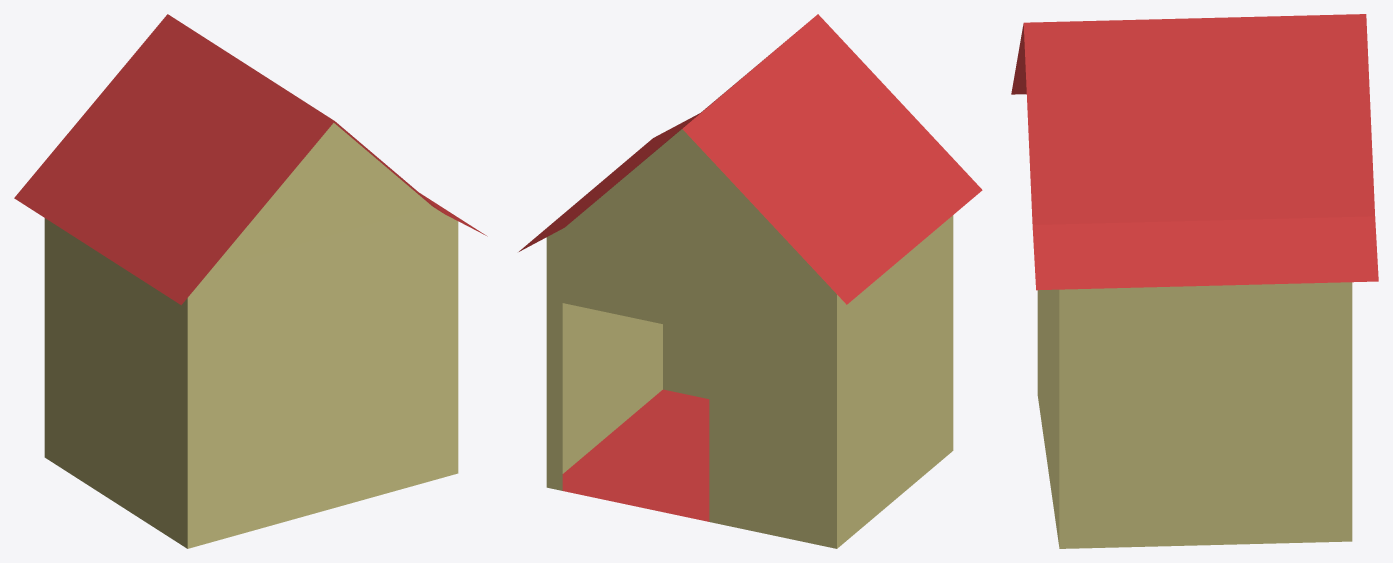
3 renders of one model, left to right at view 1: azimuth 30°, elevation 25°; view 2: azimuth 150°, elevation 25°; view 3: azimuth 270°, elevation 25°, orthographic. The views are drawn at different scales.
Size of the model in its own units: 13.15 by 11.08 by 14.95.
